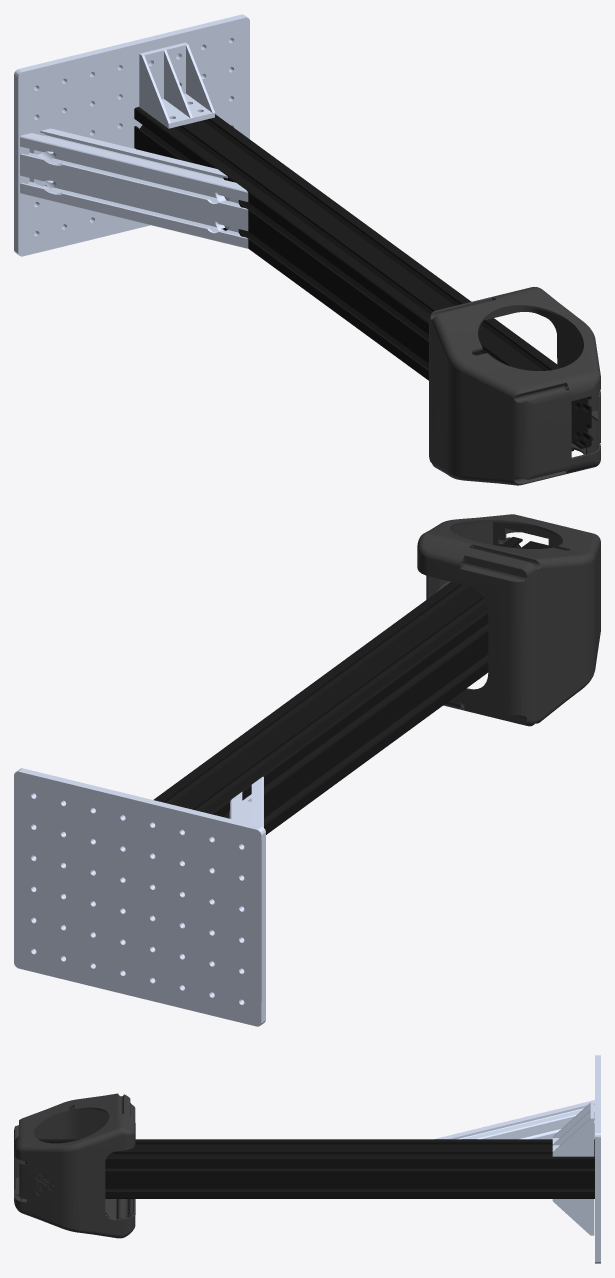
The model's file is body_link0.dae.
3 views of the same model, one above another, from view 1: azimuth 30°, elevation 25°; view 2: azimuth 150°, elevation 25°; view 3: azimuth 270°, elevation 25° (orthographic). The views are drawn at different scales.
Visible parts, largest first — view 1: node19, node39, node38, node18, node16; view 2: node38, node19, node39, node18; view 3: node19, node39, node18, node16, node38, node17.
Part boxes in pixels (left/top/right/bottom): node19: left=134, top=107, right=591, bottom=451; node39: left=429, top=287, right=600, bottom=485; node38: left=14, top=14, right=249, bottom=256; node18: left=20, top=128, right=248, bottom=248; node16: left=139, top=42, right=214, bottom=128; node38: left=14, top=768, right=265, bottom=1026; node19: left=153, top=537, right=564, bottom=834; node39: left=417, top=514, right=600, bottom=726; node18: left=229, top=776, right=263, bottom=827; node19: left=25, top=1139, right=594, bottom=1198; node39: left=14, top=1093, right=135, bottom=1238; node18: left=434, top=1100, right=594, bottom=1139; node16: left=552, top=1102, right=594, bottom=1156; node38: left=595, top=1055, right=600, bottom=1263; node17: left=552, top=1199, right=594, bottom=1235.
Bounding box in the file's own units: 0.25 × 0.19 × 0.773.
